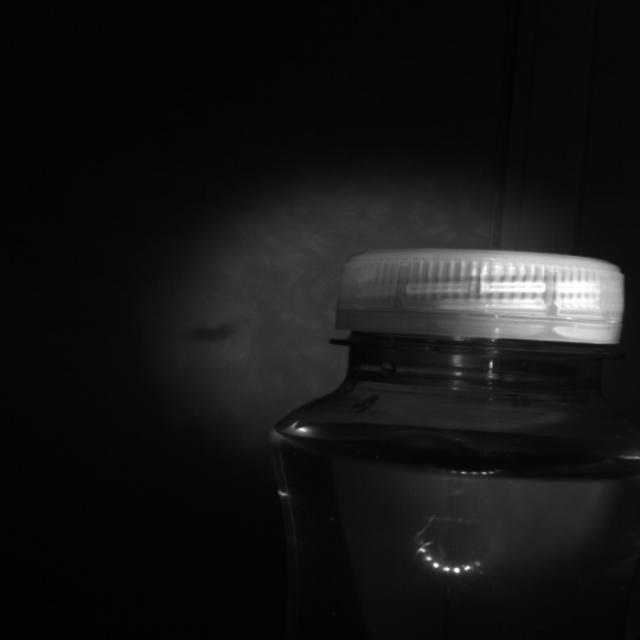Good: (326, 243, 632, 351)
